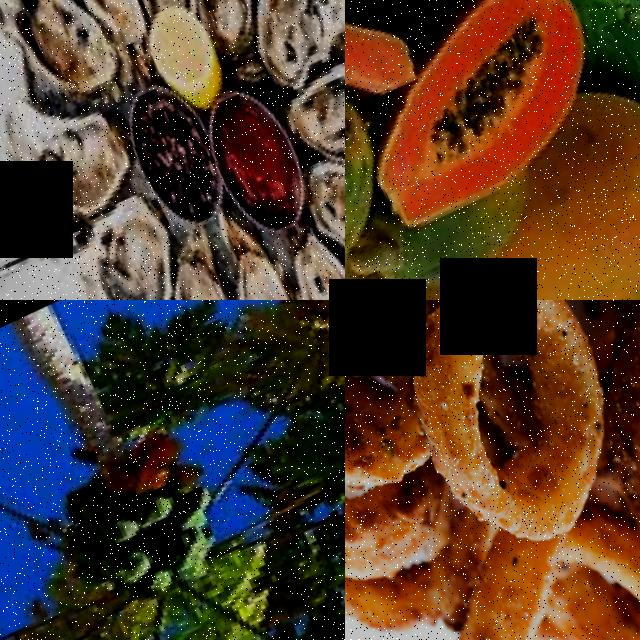lemon: (132, 6, 227, 125)
oysters: (0, 88, 146, 247), (0, 0, 121, 135), (51, 202, 194, 300), (262, 61, 345, 216), (226, 0, 345, 106), (147, 0, 288, 73), (201, 244, 345, 300), (27, 0, 149, 62), (292, 161, 345, 300)
pawpaw: (345, 0, 635, 249), (509, 108, 640, 300)
